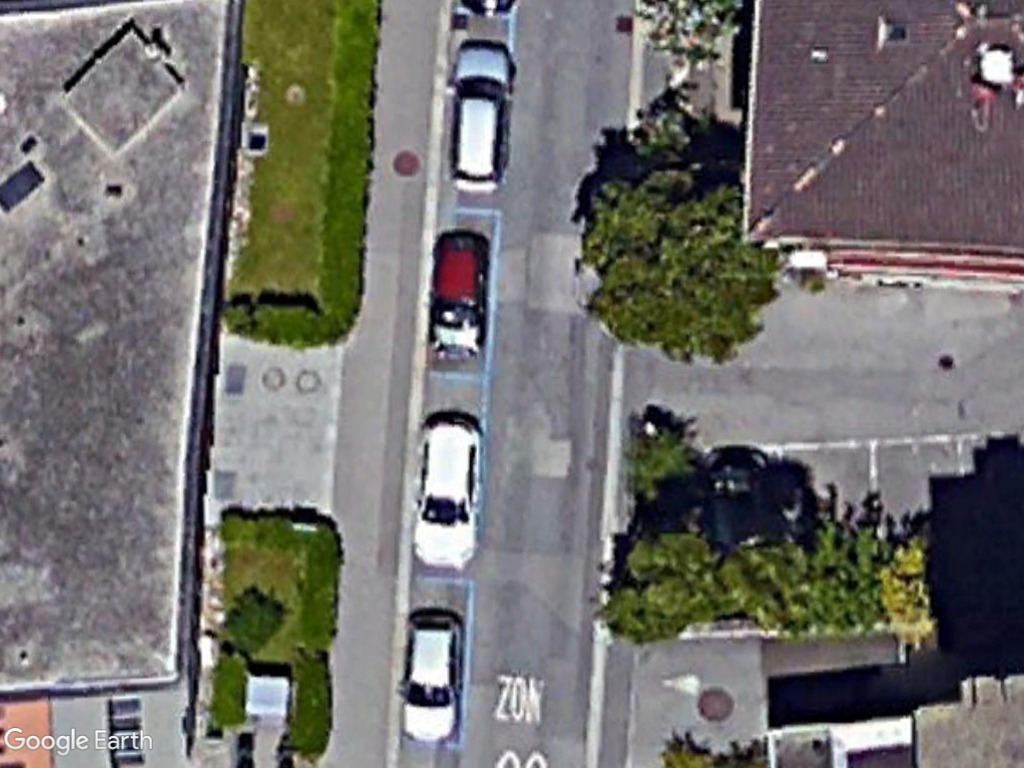car: (404, 411, 486, 572), (439, 35, 520, 197), (419, 224, 496, 368), (393, 603, 466, 750)
